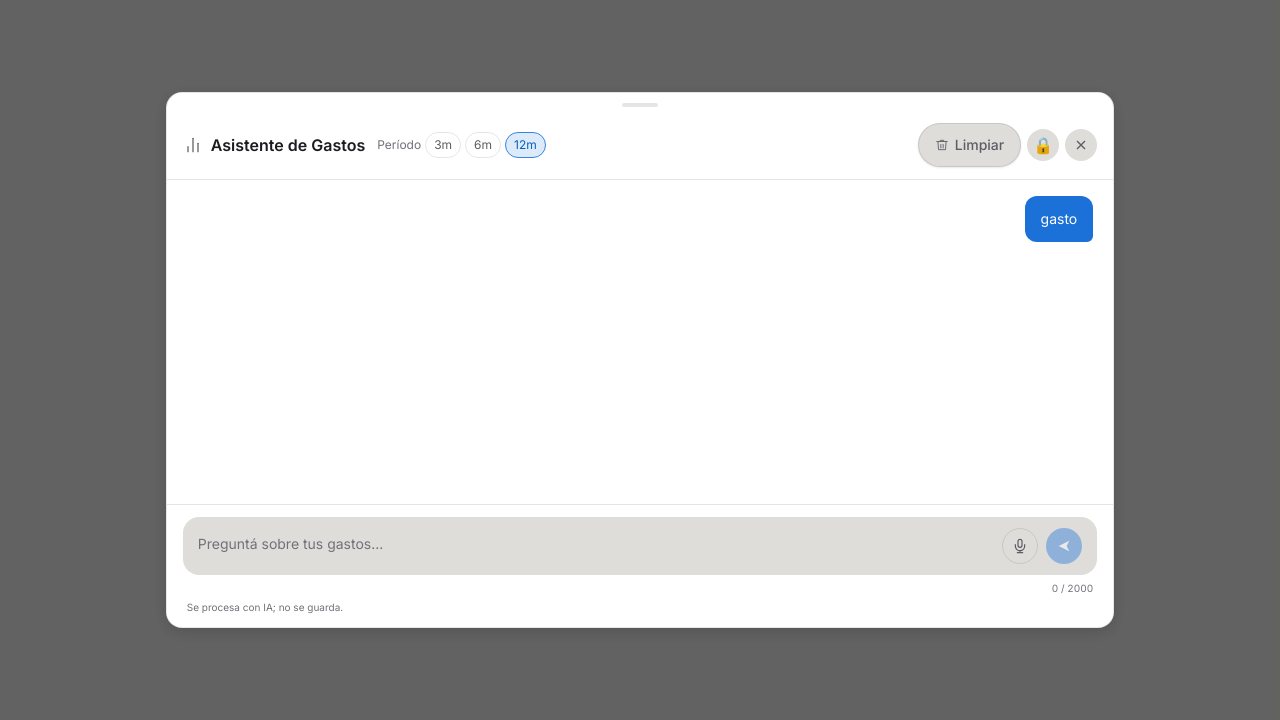
Test: Assistant › Limpiar vacía el hilo
Click the button "Limpiar".
click(970, 145)  # box [918,123,1021,167]
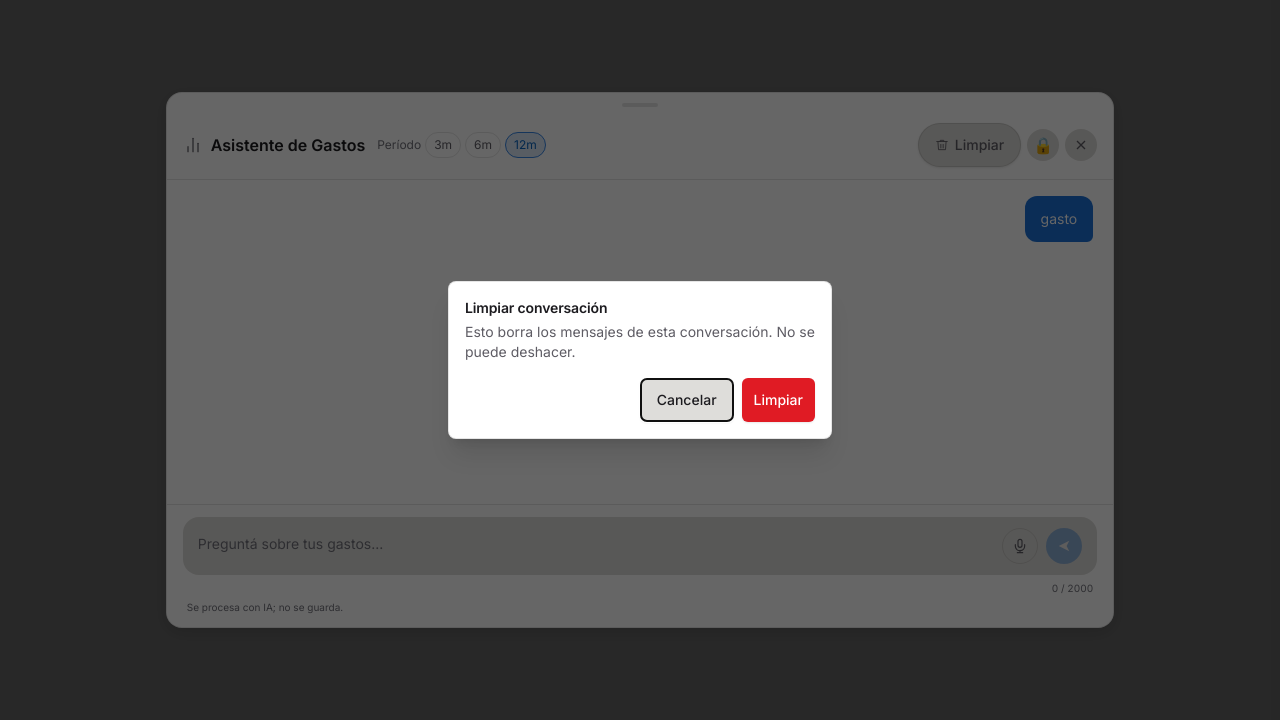
Click the button "Limpiar".
click(778, 400)  # box [742,378,815,422]
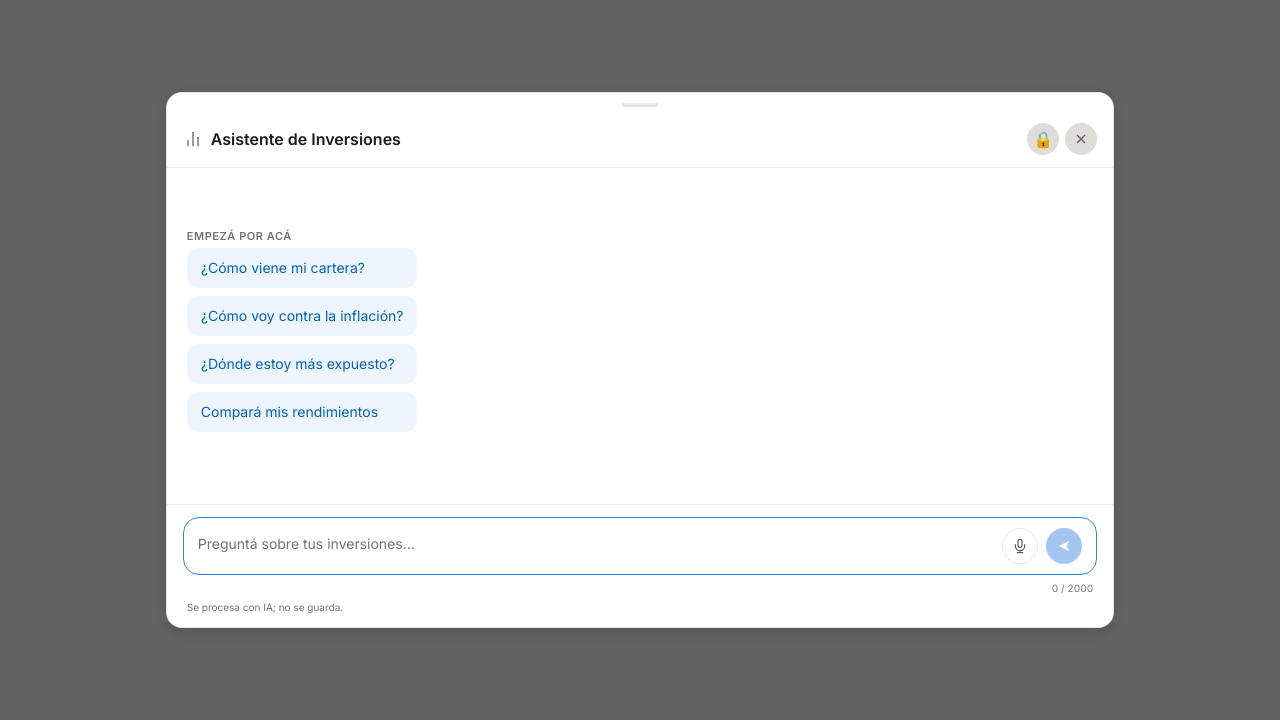
Now the text "Empezá por acá" is shown, box [187,229,292,243]
